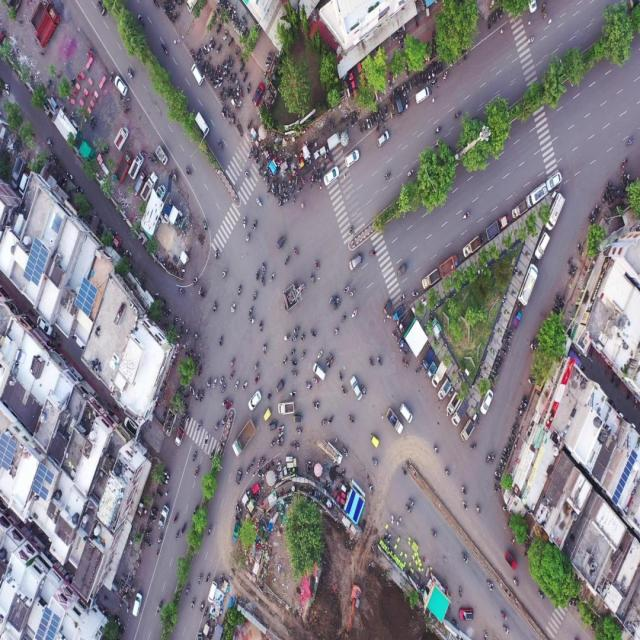3W: (276, 234, 288, 253), (94, 1, 107, 16), (234, 468, 244, 487), (370, 433, 381, 449), (275, 379, 286, 394), (383, 300, 393, 316), (263, 407, 273, 422), (328, 298, 338, 312), (397, 264, 407, 278), (268, 420, 278, 432), (293, 413, 302, 424)
Cars: (536, 231, 550, 259), (247, 390, 263, 414), (481, 388, 494, 416), (252, 81, 266, 106), (350, 374, 362, 402), (190, 62, 204, 86), (345, 146, 361, 166), (458, 604, 474, 624), (323, 167, 339, 186), (546, 172, 562, 191), (196, 113, 209, 136), (114, 74, 127, 96), (400, 404, 413, 424), (393, 87, 403, 113), (415, 87, 429, 105), (376, 129, 389, 148), (348, 254, 362, 271)
LCV: (518, 265, 540, 306), (545, 193, 564, 232), (384, 408, 404, 436), (526, 182, 547, 208), (140, 170, 157, 199), (439, 254, 459, 277), (445, 391, 461, 417), (129, 153, 145, 179), (113, 126, 129, 151), (453, 400, 468, 425), (423, 267, 439, 289), (431, 362, 445, 387), (463, 236, 479, 257), (421, 349, 435, 372), (156, 144, 169, 168), (437, 379, 451, 401), (512, 200, 527, 220), (326, 130, 341, 150), (504, 551, 518, 571), (398, 313, 411, 334), (460, 422, 474, 441), (159, 505, 169, 527), (512, 310, 523, 330), (398, 338, 409, 356), (392, 306, 404, 322), (175, 427, 184, 446), (426, 362, 436, 378)
M2W: (308, 270, 317, 286), (268, 271, 277, 286), (624, 137, 636, 148), (228, 302, 238, 315), (216, 334, 225, 348), (172, 511, 181, 525), (620, 156, 629, 170), (160, 42, 169, 56), (308, 326, 318, 338), (457, 583, 464, 600), (251, 218, 259, 232), (258, 319, 265, 335), (191, 503, 199, 517), (440, 70, 448, 84), (366, 482, 376, 493), (143, 537, 152, 549), (244, 230, 252, 243), (189, 597, 197, 610), (460, 500, 468, 513), (486, 579, 494, 592), (500, 610, 508, 623), (462, 210, 471, 221), (502, 624, 511, 635), (210, 300, 217, 314), (196, 573, 203, 587), (173, 528, 180, 542), (484, 452, 491, 466), (538, 588, 545, 602), (220, 268, 228, 280), (316, 348, 324, 360), (320, 416, 328, 428), (194, 465, 200, 481), (403, 502, 411, 514), (122, 103, 130, 115), (566, 255, 574, 267), (219, 85, 225, 101), (261, 342, 268, 355), (341, 310, 348, 323), (157, 532, 164, 545), (265, 388, 272, 401), (254, 267, 260, 282), (205, 570, 211, 585), (199, 599, 205, 614), (182, 520, 188, 535), (526, 36, 535, 46), (108, 69, 114, 84), (251, 290, 259, 301), (255, 197, 263, 208), (291, 245, 299, 256), (474, 504, 482, 515), (253, 372, 260, 384), (214, 248, 221, 260), (228, 370, 235, 382), (229, 356, 236, 368), (233, 379, 240, 391), (242, 379, 249, 391), (252, 360, 259, 372), (314, 258, 320, 272), (329, 351, 335, 365), (300, 331, 306, 345), (207, 522, 213, 536), (199, 388, 205, 402), (461, 553, 468, 565), (460, 484, 467, 496), (512, 577, 519, 589), (127, 68, 134, 80), (138, 14, 145, 26), (70, 74, 76, 88), (331, 327, 340, 336), (383, 171, 392, 180), (260, 274, 265, 290), (216, 140, 224, 150), (367, 358, 375, 368), (283, 332, 291, 342), (290, 368, 298, 378), (185, 582, 190, 598), (348, 222, 353, 238), (408, 498, 416, 508), (236, 284, 242, 297), (202, 218, 208, 231), (337, 370, 343, 383), (306, 379, 312, 392), (300, 348, 306, 361), (361, 382, 367, 395), (270, 437, 276, 450), (192, 450, 198, 463), (196, 421, 202, 434), (203, 433, 209, 446), (479, 231, 485, 244), (402, 465, 408, 478), (595, 203, 601, 216), (180, 412, 186, 425), (351, 308, 358, 319), (407, 168, 414, 179), (444, 466, 451, 477), (431, 529, 438, 540), (260, 262, 266, 274), (206, 378, 212, 390), (248, 304, 254, 316), (284, 254, 290, 266), (341, 384, 347, 396), (293, 325, 301, 334), (282, 355, 288, 367), (348, 414, 356, 423), (372, 455, 378, 467), (342, 446, 348, 458), (295, 426, 304, 434), (210, 448, 216, 460), (123, 95, 131, 104), (412, 76, 418, 88), (431, 77, 437, 89), (491, 13, 497, 25), (552, 305, 560, 314), (553, 292, 559, 304), (577, 243, 583, 255), (246, 118, 252, 130), (452, 617, 458, 629), (244, 170, 251, 180), (178, 286, 185, 296), (349, 289, 356, 299), (290, 358, 297, 368), (509, 428, 516, 438), (277, 200, 284, 210), (234, 46, 241, 56), (185, 165, 191, 176), (335, 294, 341, 305), (376, 355, 382, 366), (242, 216, 247, 229), (221, 381, 226, 394), (195, 389, 200, 402), (588, 213, 593, 226), (247, 317, 255, 325), (512, 422, 520, 430), (507, 436, 515, 444), (468, 444, 477, 451), (516, 409, 523, 418), (145, 528, 152, 537), (192, 276, 198, 286), (212, 377, 218, 387), (218, 375, 224, 385), (278, 424, 284, 434), (245, 466, 250, 478), (214, 420, 219, 432), (455, 109, 461, 119), (433, 445, 439, 455), (491, 452, 496, 464), (349, 116, 354, 128), (357, 123, 362, 135), (291, 194, 296, 206), (259, 162, 264, 174), (247, 81, 251, 96), (239, 63, 245, 73), (222, 30, 228, 40), (216, 22, 222, 32), (231, 74, 237, 84), (198, 364, 203, 376), (153, 152, 158, 164), (312, 377, 320, 384), (289, 349, 296, 357), (289, 390, 296, 398), (434, 126, 441, 134), (494, 470, 502, 477), (329, 118, 333, 132), (487, 17, 491, 31), (502, 343, 510, 350), (499, 458, 506, 466), (263, 168, 267, 182), (239, 85, 243, 99), (208, 37, 213, 48), (292, 334, 298, 343), (412, 290, 418, 299), (300, 176, 306, 185), (216, 44, 222, 53), (157, 490, 163, 499), (415, 367, 421, 376), (353, 112, 357, 125), (384, 104, 388, 117), (592, 208, 596, 221), (285, 180, 289, 193), (265, 174, 269, 187), (329, 414, 334, 424), (221, 416, 226, 426), (216, 7, 221, 17), (214, 80, 219, 90), (368, 250, 375, 257), (500, 349, 507, 356), (528, 378, 535, 385), (149, 517, 156, 524), (250, 457, 254, 469), (375, 120, 379, 132), (388, 78, 392, 90), (499, 465, 505, 473), (502, 453, 508, 461), (521, 399, 527, 407), (315, 170, 319, 182), (290, 185, 294, 197), (243, 72, 247, 84), (229, 36, 233, 48), (196, 47, 200, 59), (226, 402, 232, 410), (222, 398, 228, 406), (231, 112, 235, 124), (221, 60, 226, 69), (326, 357, 330, 368), (371, 115, 375, 126), (404, 99, 408, 110), (417, 75, 421, 86), (495, 11, 499, 22), (236, 79, 240, 90), (214, 64, 218, 75), (90, 114, 94, 125), (400, 293, 406, 300), (402, 82, 405, 96), (153, 0, 159, 7), (202, 48, 208, 55), (152, 506, 158, 513), (141, 151, 148, 157), (379, 108, 383, 118), (408, 80, 412, 90), (424, 73, 428, 83), (496, 357, 504, 362), (255, 156, 259, 166), (254, 148, 258, 158), (250, 146, 254, 156), (211, 41, 215, 51), (218, 77, 222, 87), (230, 60, 234, 70), (224, 64, 228, 74), (228, 73, 232, 83), (190, 386, 195, 394), (436, 62, 439, 75), (362, 121, 365, 133), (405, 84, 409, 93), (434, 64, 437, 76), (281, 182, 284, 194), (275, 180, 278, 192), (228, 55, 232, 64), (148, 156, 154, 162), (504, 448, 511, 453), (204, 45, 211, 50), (389, 95, 392, 106), (319, 171, 322, 182), (295, 175, 298, 186), (278, 183, 281, 194), (92, 119, 95, 130), (344, 286, 349, 292), (366, 118, 369, 128), (439, 62, 442, 72), (322, 161, 325, 171), (150, 512, 156, 517), (370, 116, 372, 128), (428, 70, 430, 82), (422, 74, 424, 85)
Truck: (36, 6, 59, 45), (232, 420, 255, 456), (112, 150, 131, 186)
